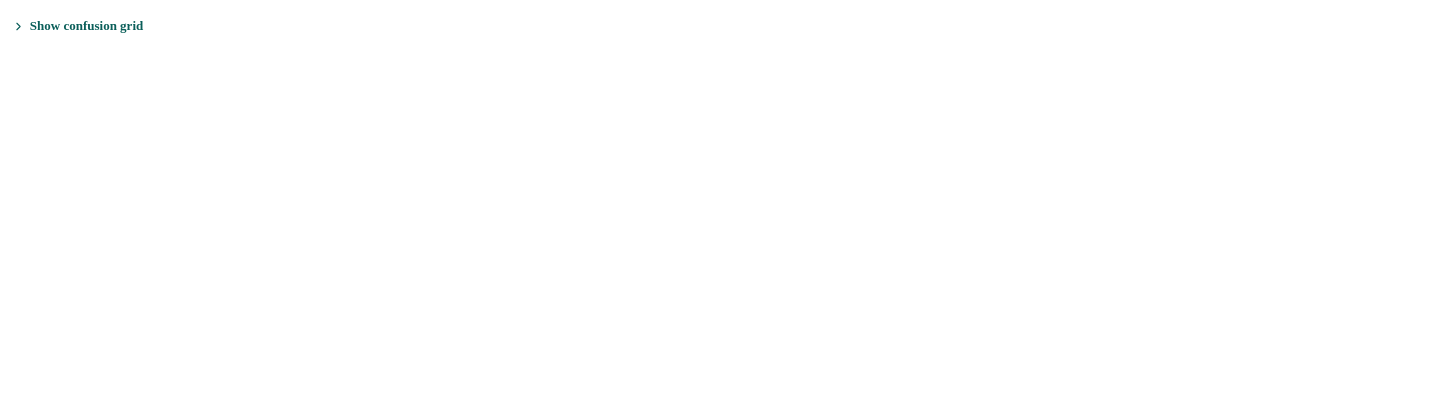
Test: switches the displayed combo and keeps its multi bucket
This screenshot has width=1440, height=420.
Click the button "Show confusion grid" at (78,26), box [8,16,147,37]
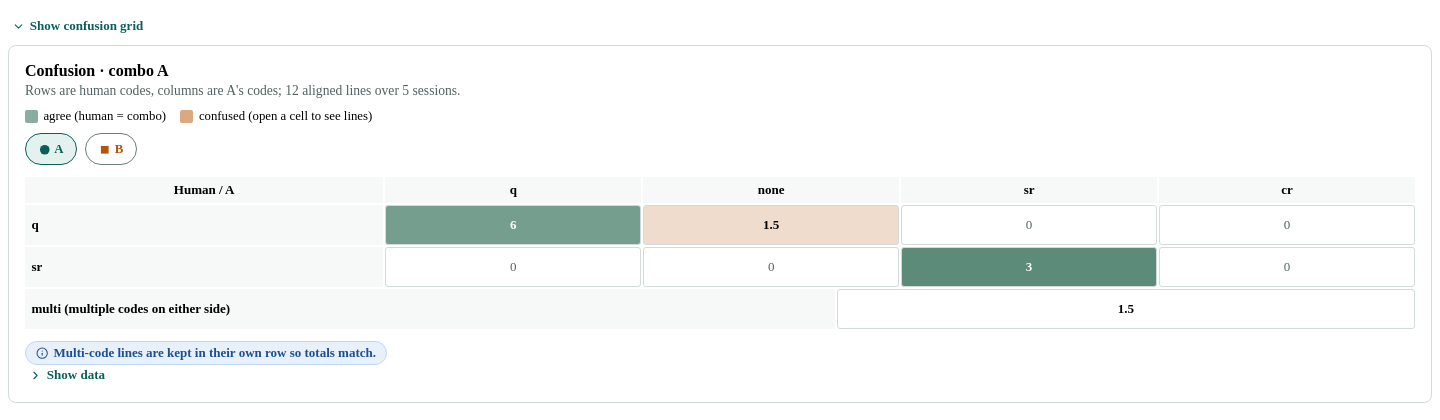
Click the button named "Combo B" at (111,149), box [85,133,137,165]
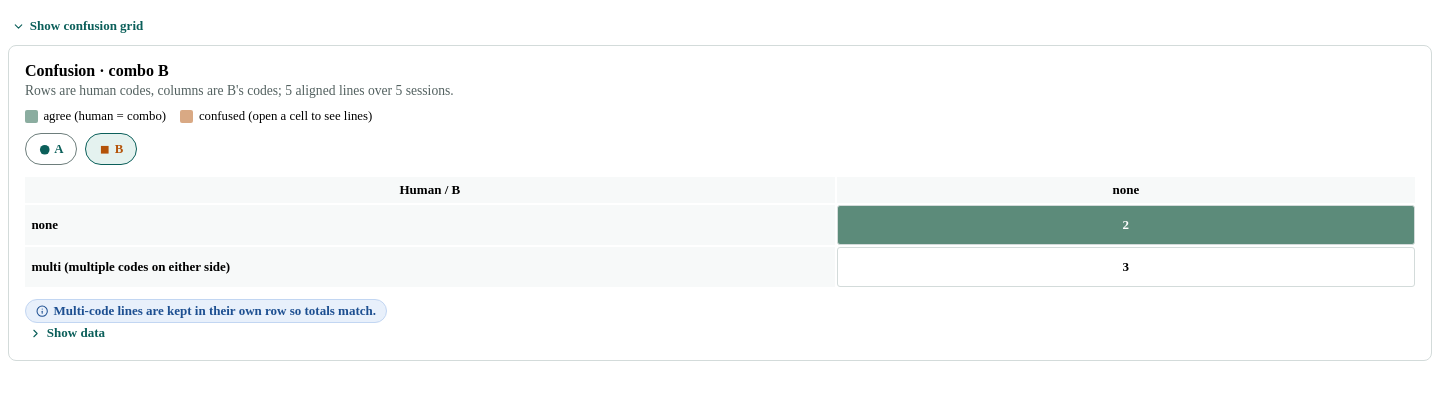
Now the button named "Human none, B none: 2" is shown, box [837,205,1415,245]
Now the button "3" is shown, box [837,247,1415,287]
Now the heading "Confusion · combo B" is shown, box [25,62,169,79]
